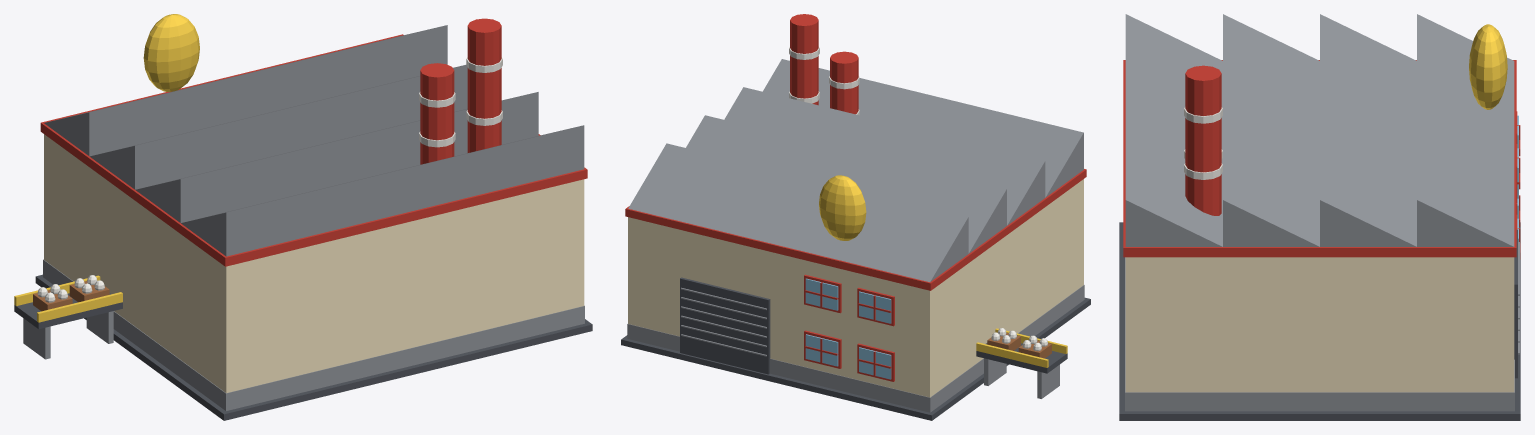
File: EggFactory.fbx
3 renders of one model, left to right at view 1: azimuth 30°, elevation 25°; view 2: azimuth 150°, elevation 25°; view 3: azimuth 270°, elevation 25°, orthographic. The views are drawn at different scales.
Parts seen in each view (by area): view 1: EggFactory; view 2: EggFactory; view 3: EggFactory.
Boxes of the visible parts, x1=… form: EggFactory: x1=14, y1=14, x2=592, y2=420; EggFactory: x1=621, y1=14, x2=1090, y2=420; EggFactory: x1=1119, y1=14, x2=1520, y2=420.
Bounding box in the file's own units: 1190 × 745 × 868.
